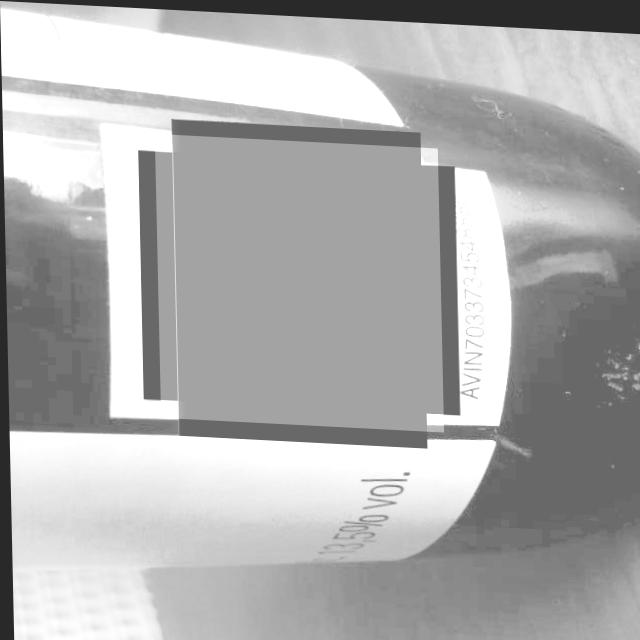qr_code: (154, 131, 442, 427)
